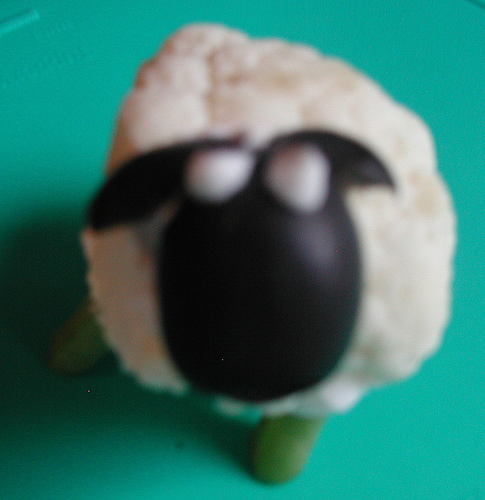cauliflower: (81, 23, 458, 483)
